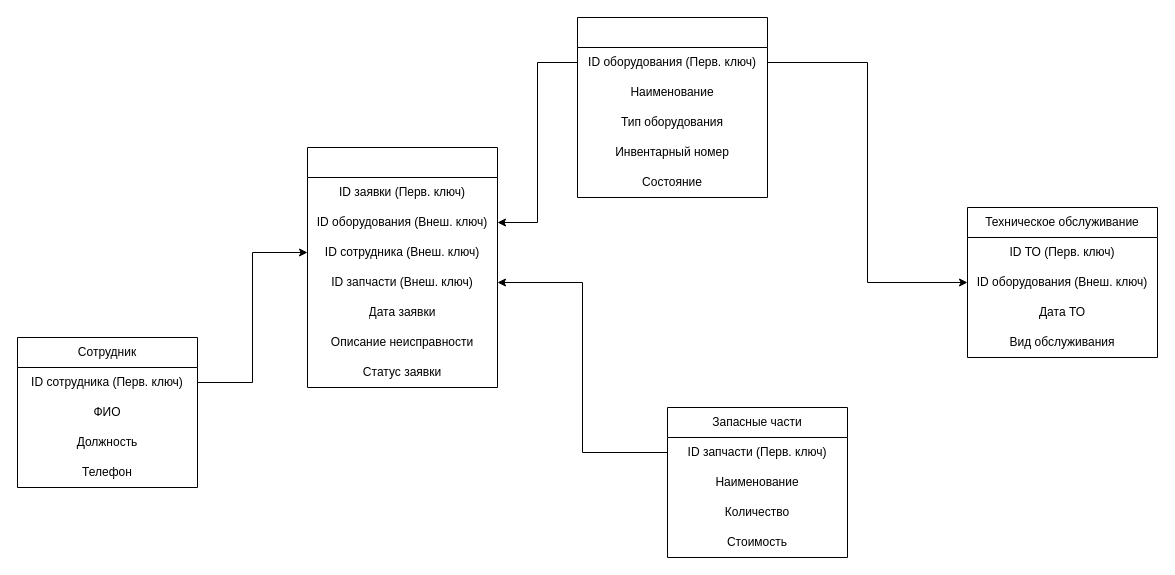
Some shapes in this 1175 by 575 pixel diagram are drawn without their labels. The box of each missing label's shape, as (x1, y1, x2, y2) in pixels:
Заявка на ремонт: (306, 146, 498, 388)
Оборудование: (576, 16, 768, 198)
